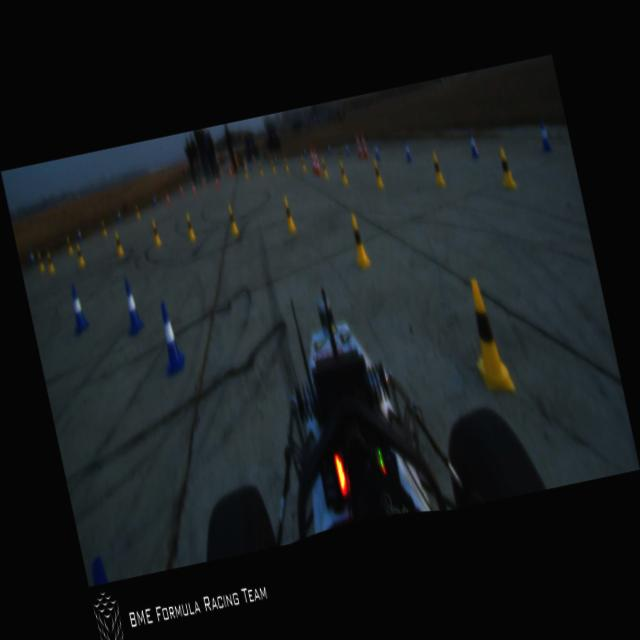blue_cone: (151, 300, 186, 374), (118, 278, 145, 336), (66, 284, 90, 332), (536, 120, 552, 152), (466, 128, 478, 158), (402, 138, 412, 164), (372, 141, 382, 163)
large_orange_cone: (310, 144, 322, 176), (306, 144, 318, 175), (358, 130, 370, 160), (352, 130, 363, 158)
yellow_cone: (460, 275, 514, 396), (346, 212, 371, 266), (494, 146, 518, 192), (430, 150, 446, 188), (282, 196, 296, 232), (112, 230, 125, 256), (150, 218, 162, 246), (226, 206, 238, 234), (372, 160, 384, 188), (74, 241, 86, 268), (44, 247, 56, 274), (184, 214, 194, 240), (338, 160, 348, 186), (35, 249, 45, 274), (320, 157, 329, 179), (298, 154, 307, 174), (282, 156, 290, 174), (269, 158, 276, 174), (257, 161, 263, 175)
